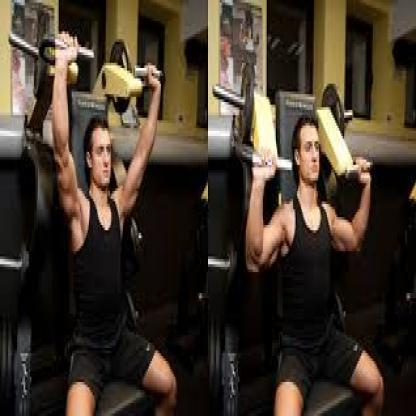shoulder press machine: (5, 11, 181, 416), (210, 61, 394, 416)
